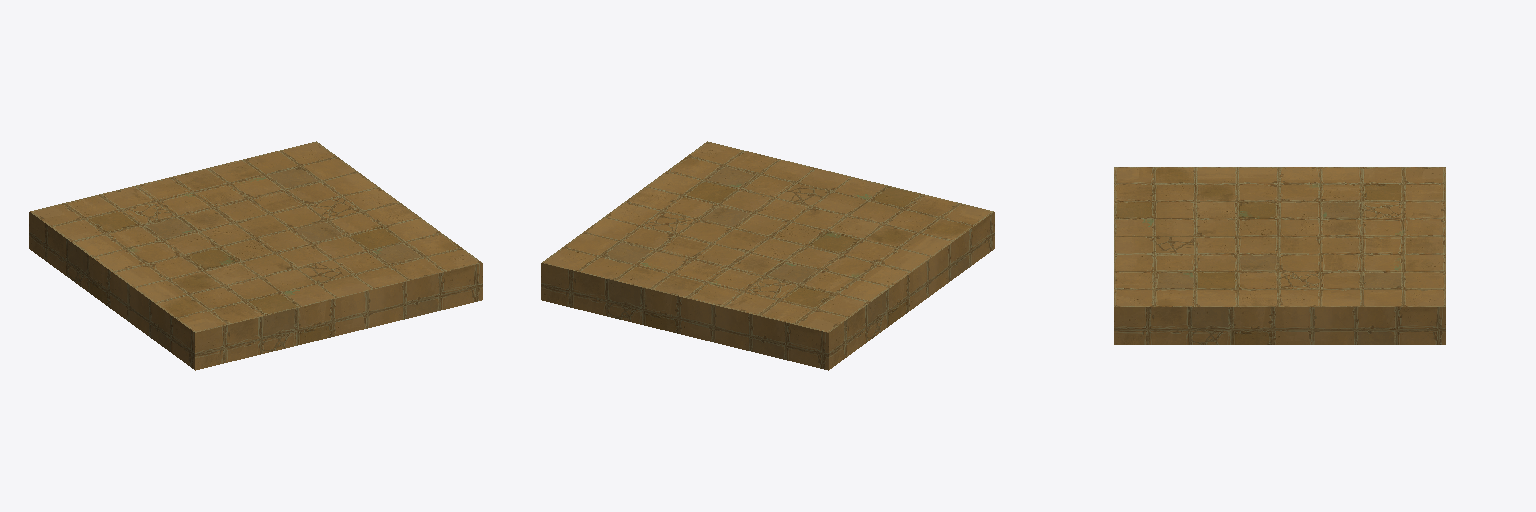
3 renders of one model, left to right at view 1: azimuth 30°, elevation 25°; view 2: azimuth 150°, elevation 25°; view 3: azimuth 270°, elevation 25°, orthographic.
Parts seen in each view (by area): view 1: floor2-tiles; view 2: floor2-tiles; view 3: floor2-tiles.
Boxes of the visible parts, <box> form: floor2-tiles: <box>29,141,482,370</box>; floor2-tiles: <box>541,141,994,370</box>; floor2-tiles: <box>1114,167,1445,344</box>.
Size of the model in its own units: 1 by 0.125 by 1.
1 materials, 1 textured.